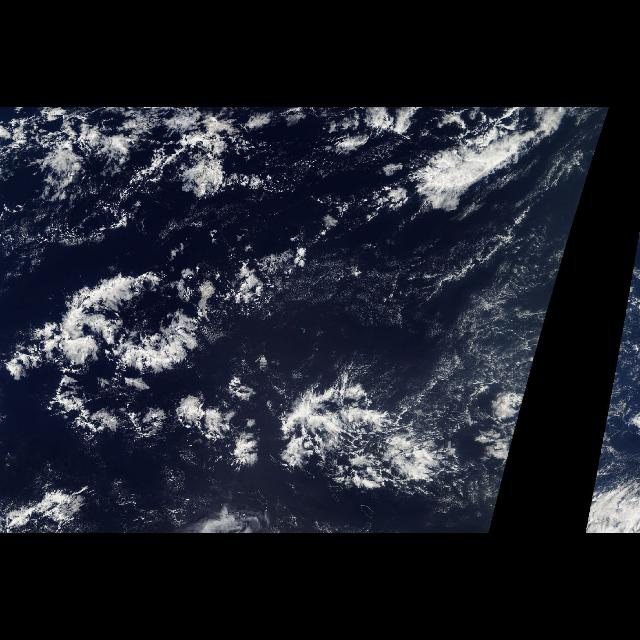Fish: (254, 379, 474, 497)
Gravel: (256, 154, 538, 368)
Sugar: (306, 241, 572, 389), (612, 346, 618, 388)
